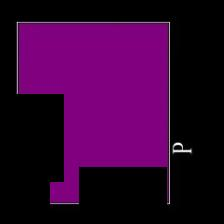purple: (18, 21, 170, 202)
